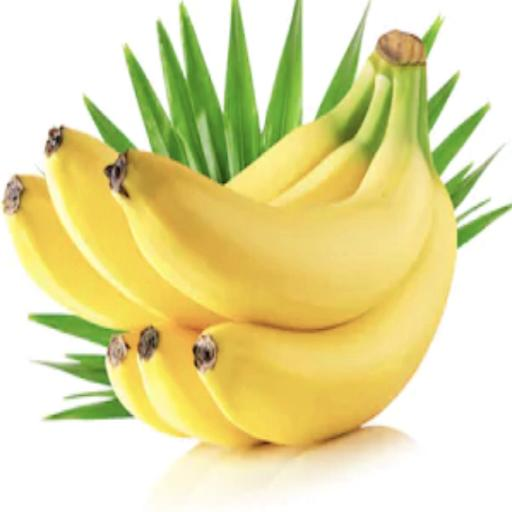banana: (110, 35, 434, 330), (195, 179, 457, 445), (46, 128, 219, 328), (4, 175, 153, 328), (227, 59, 374, 202), (123, 325, 258, 447), (272, 75, 392, 208), (106, 335, 183, 436)
